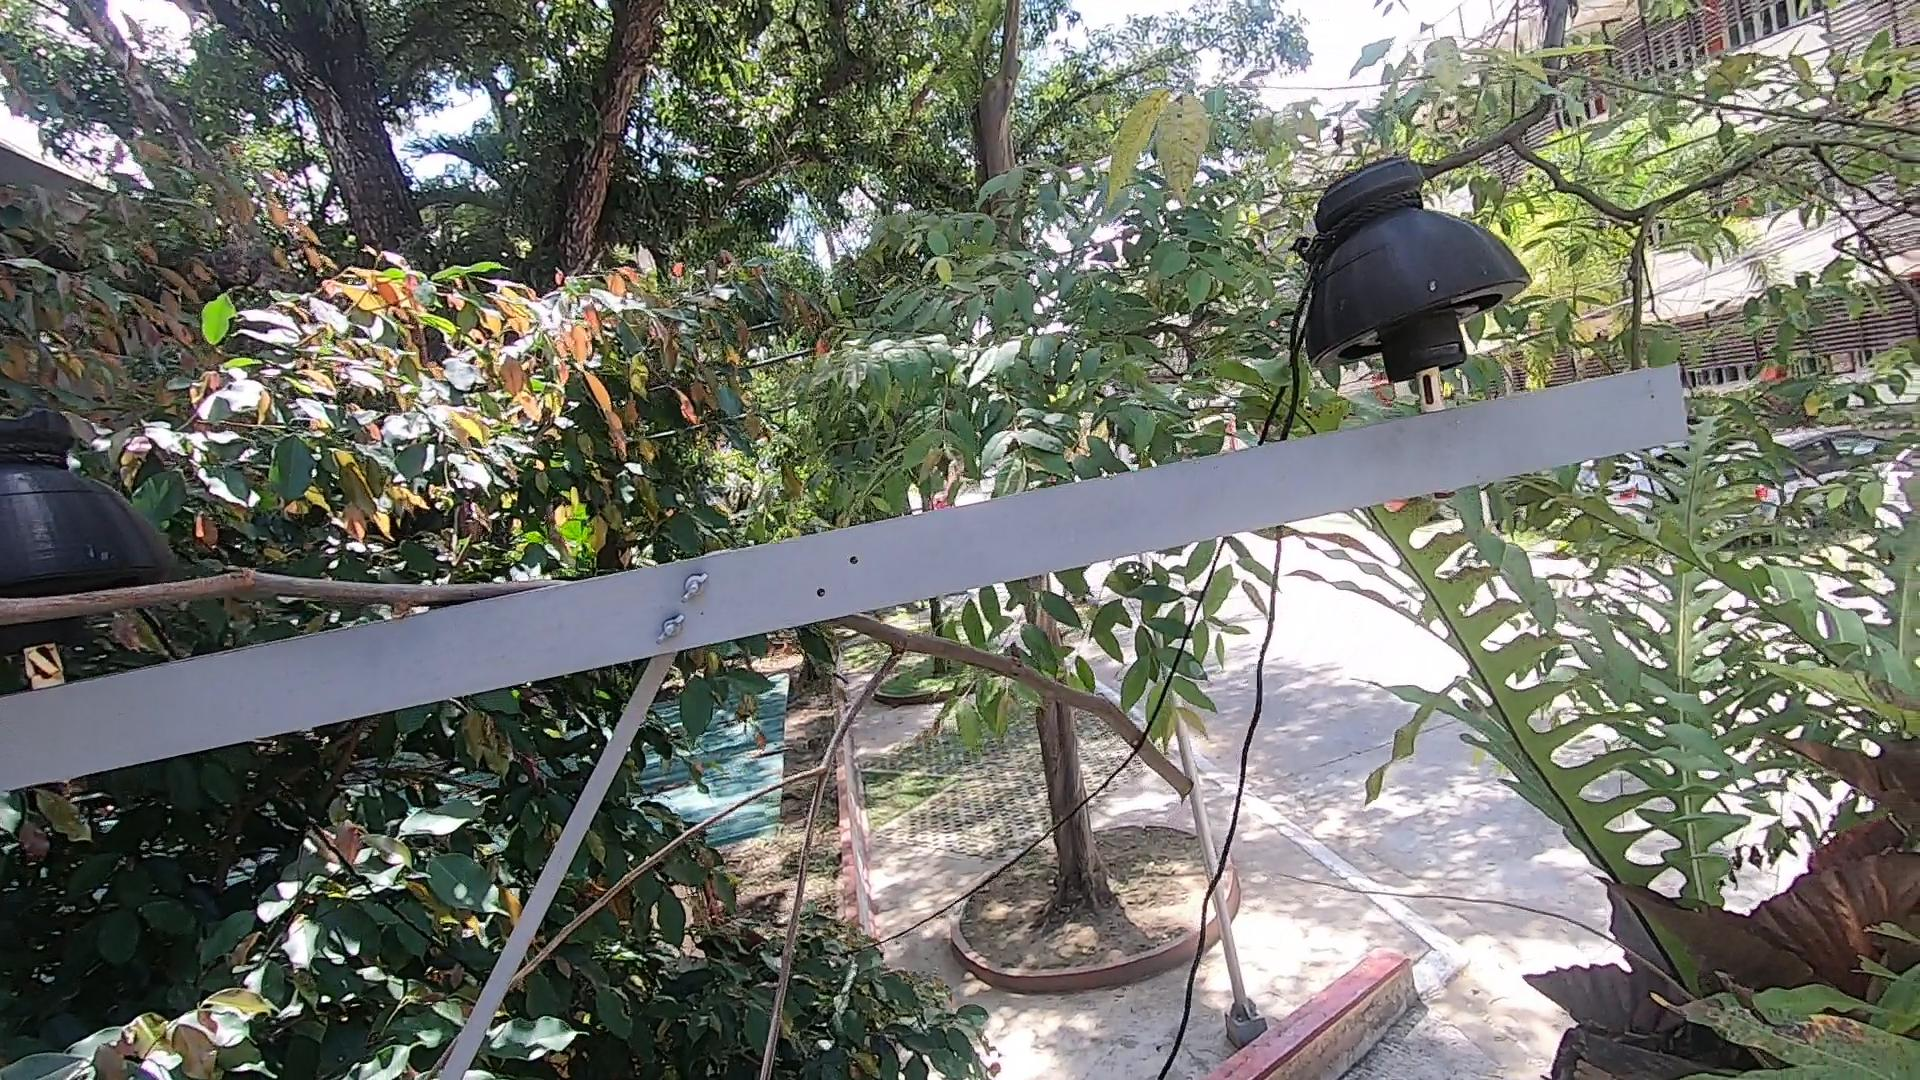tree branch: (423, 608, 1226, 1080), (1, 558, 558, 682)
